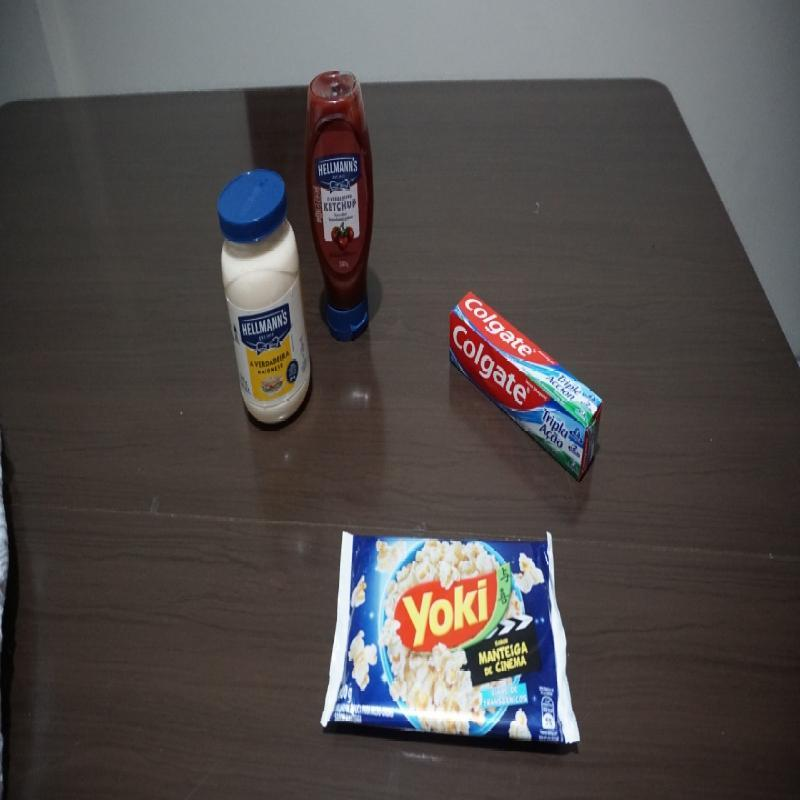Ketchup: (293, 75, 390, 338)
Mayonnaise: (216, 163, 313, 426)
Popcorn: (321, 530, 579, 746)
Toothpaste: (448, 290, 605, 482)
